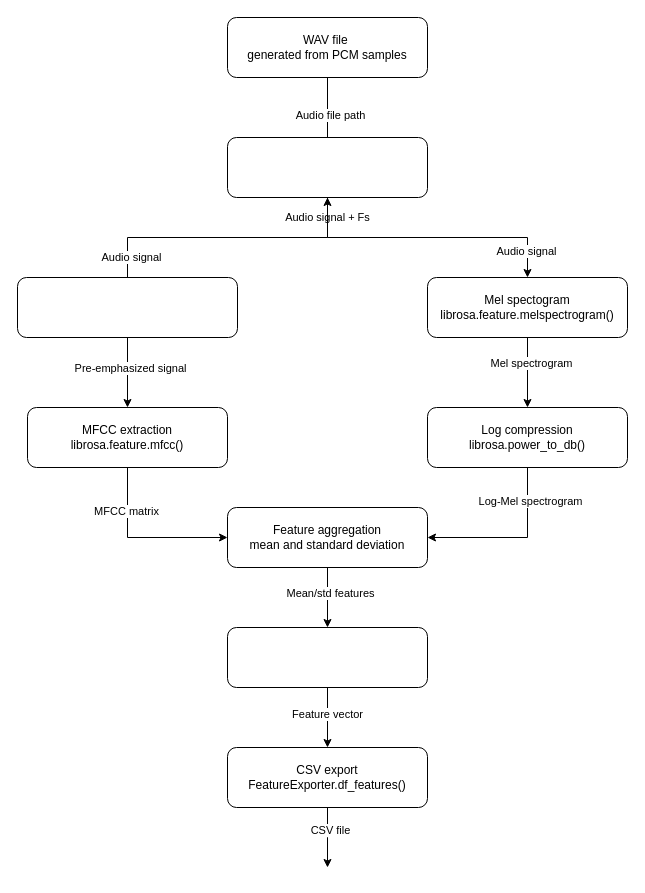
Some shapes in this 645 by 893 pixel diagram are drawn without their labels. The centre of each missing label's shape, as x and y in pixels:
"Accumulated feature vector Log-Mel mean/std + MFCC mean/std" belongs at point 327,657.
"Load audio signal librosa.load()" belongs at point 327,167.
"Pre-emphesis librosa.effects.preemphasis(self.signal)" belongs at point 127,307.
